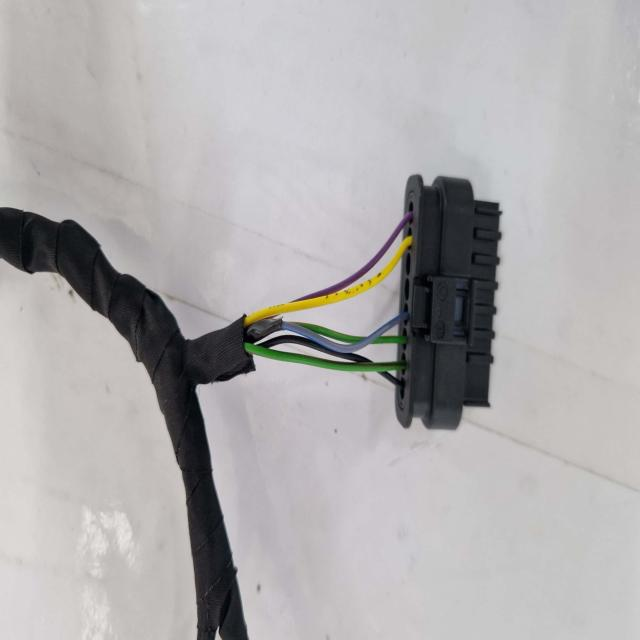Connector: (395, 174, 500, 427)
Gape: (244, 210, 414, 386)
MHEV_N11_Cable: (0, 198, 255, 640)
